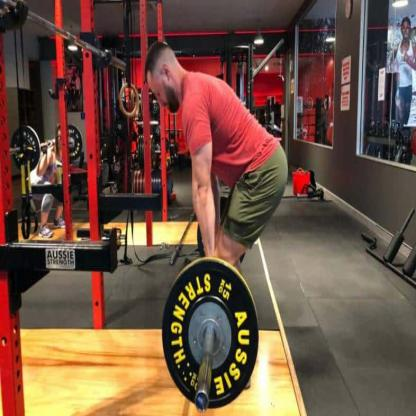Barbell: (159, 250, 262, 412)
